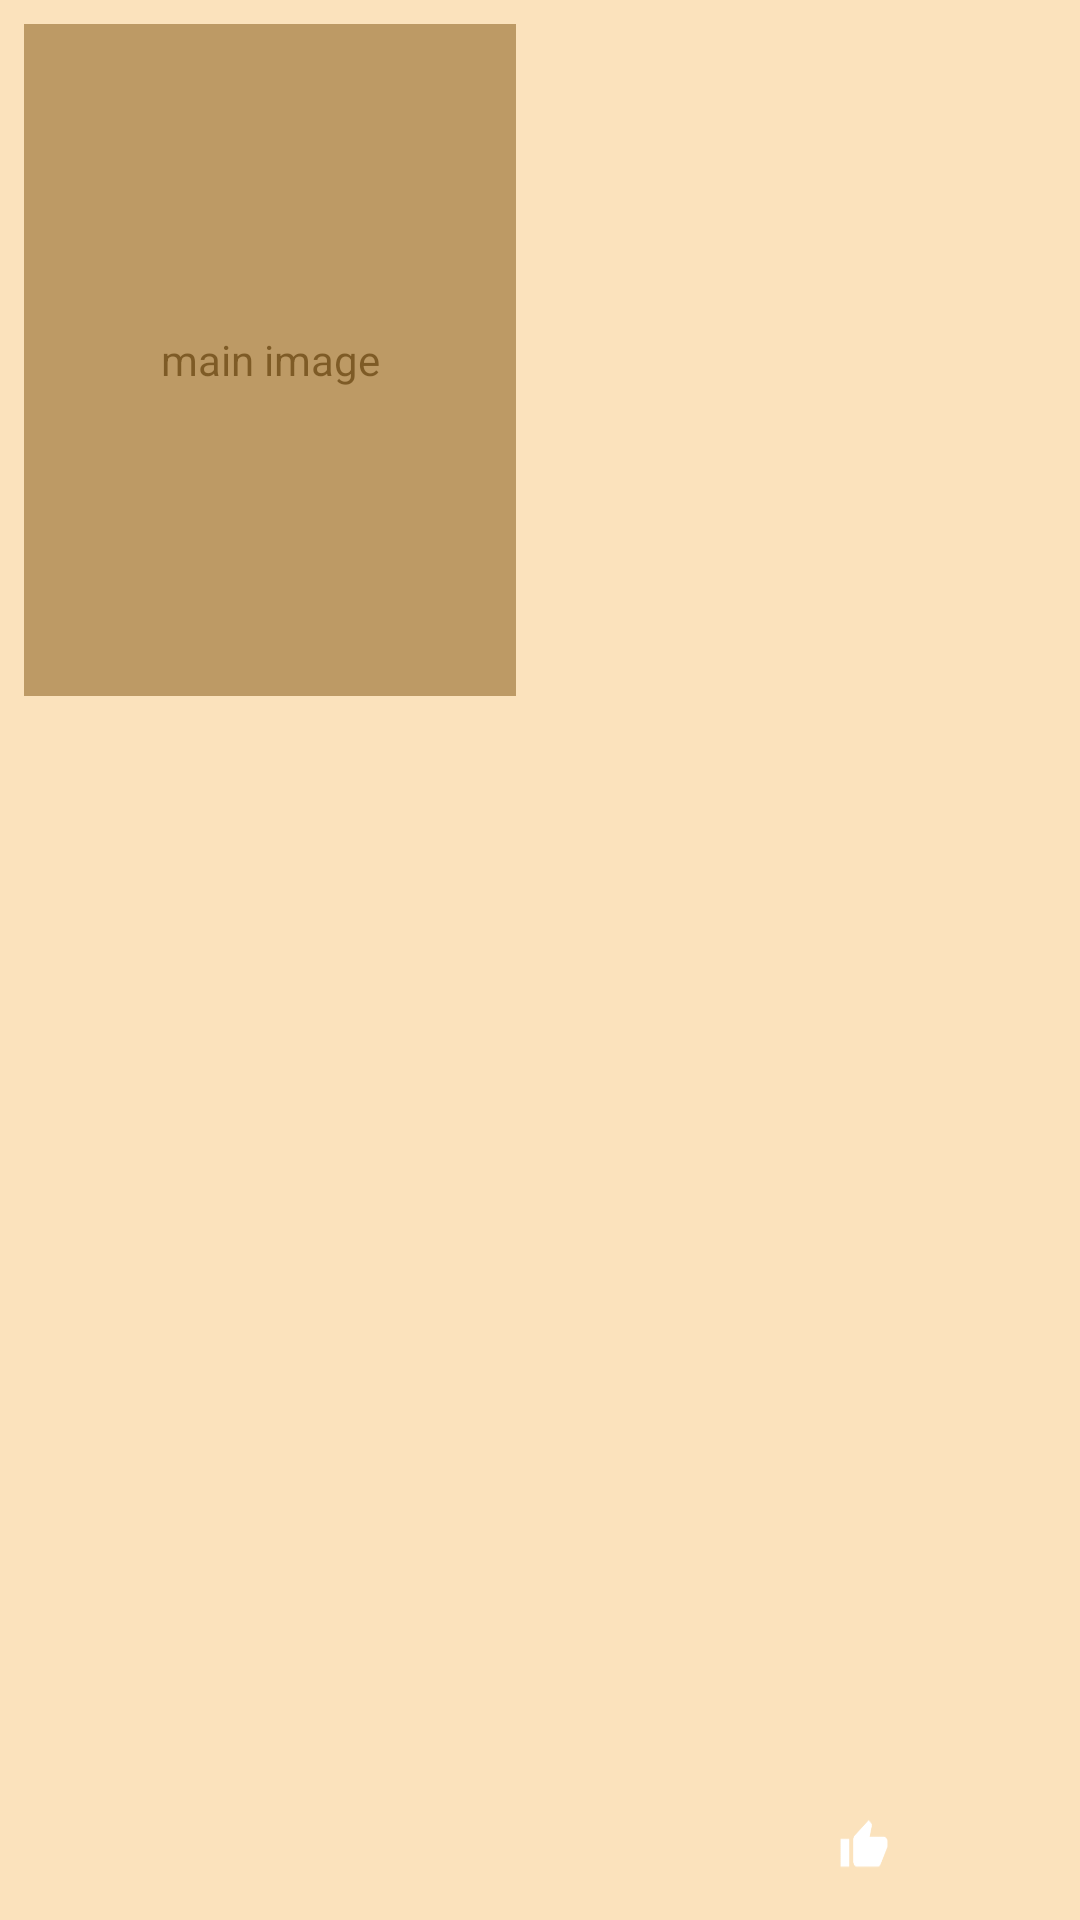

Named icons in this screenshot (1080x1920) and their bounding boxes, bbox=(x1, y1, x2, y2):
thumb up: bbox=(840, 1820, 888, 1867)
